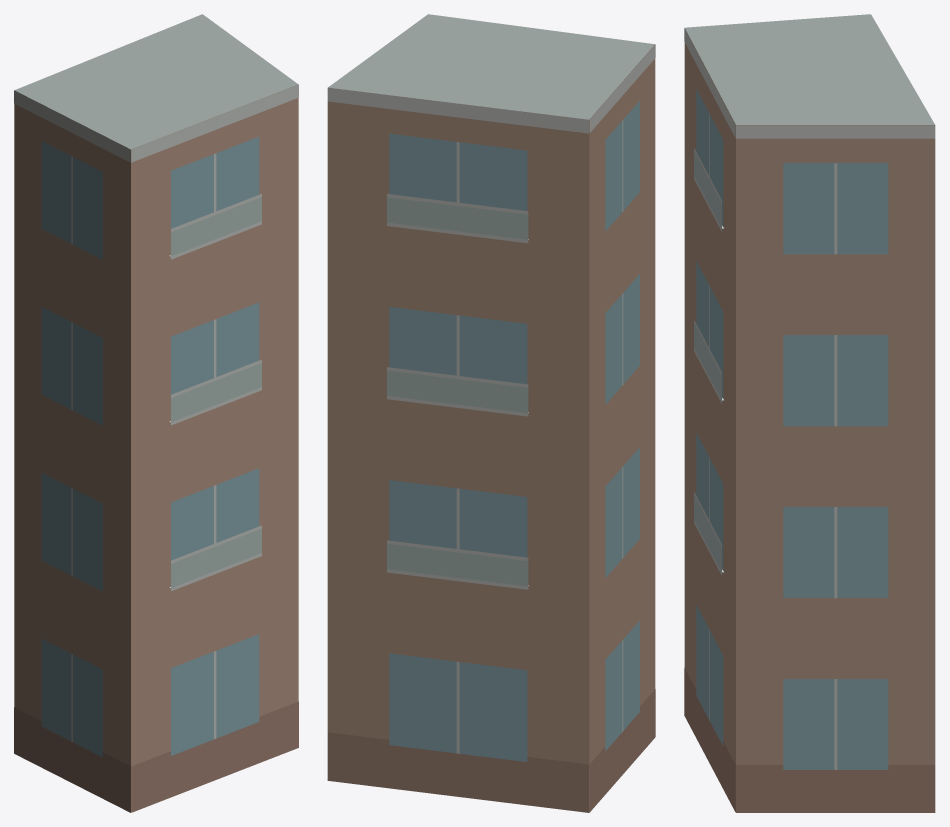
Rendered from survey-upis-32907082.glb.
The picture shows the model from 3 angles, left to right: view 1: azimuth 30°, elevation 25°; view 2: azimuth 150°, elevation 25°; view 3: azimuth 270°, elevation 25°; orthographic projection. The views are drawn at different scales.
Visible parts, largest first — view 1: survey-upis-32907082.tmp; view 2: survey-upis-32907082.tmp; view 3: survey-upis-32907082.tmp.
Boxes of the visible parts, bbox=[...] form: survey-upis-32907082.tmp: bbox=[14, 14, 298, 812]; survey-upis-32907082.tmp: bbox=[327, 14, 655, 812]; survey-upis-32907082.tmp: bbox=[684, 14, 935, 812].
Size of the model in its own units: 4.24 by 12.2 by 4.04.
